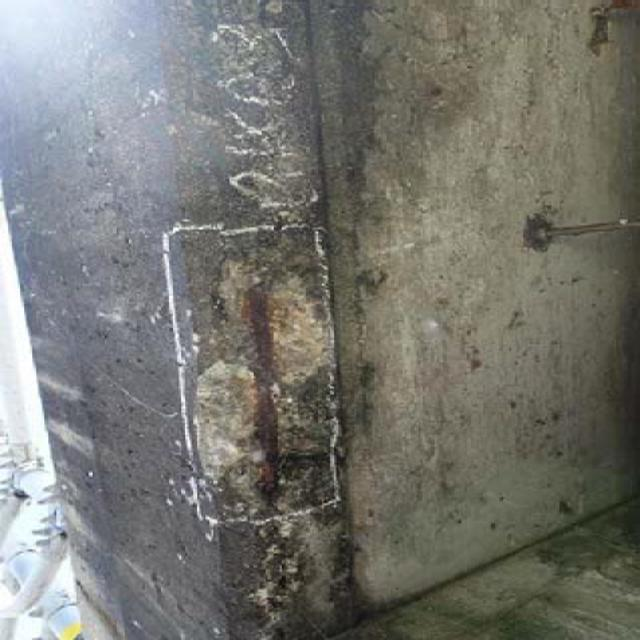spalling: (174, 256, 336, 503)
